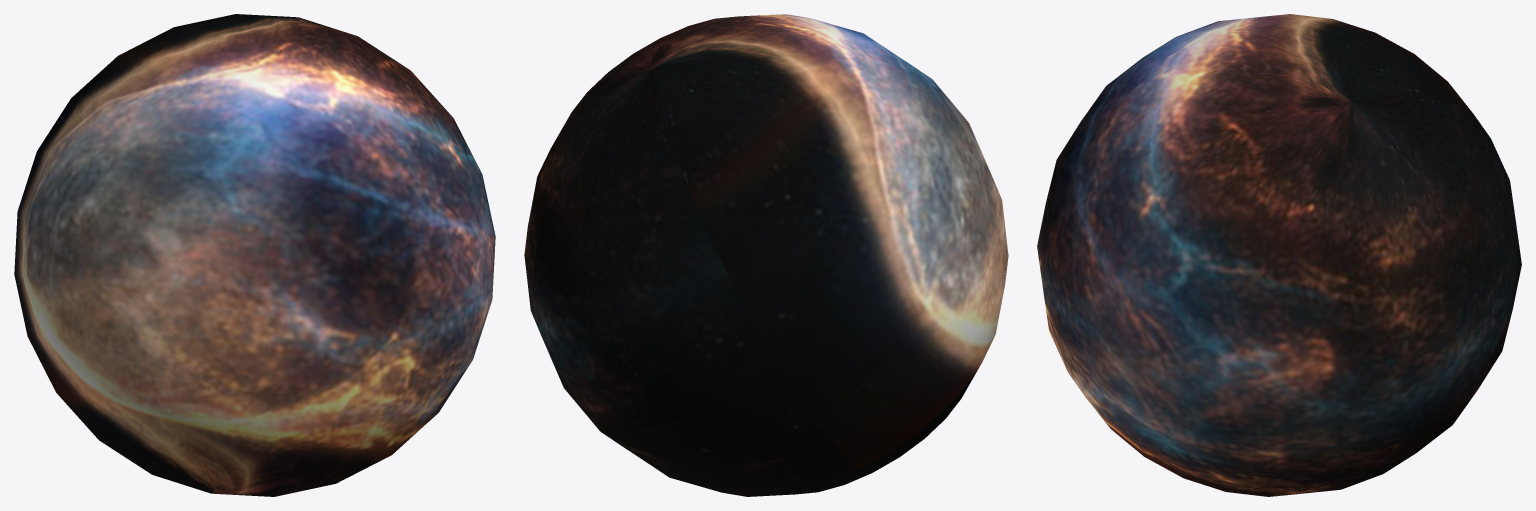
Rendered from mercur.fbx.
3 renders of one model, left to right at view 1: azimuth 30°, elevation 25°; view 2: azimuth 150°, elevation 25°; view 3: azimuth 270°, elevation 25°, orthographic.
Visible parts, largest first — view 1: Sphere; view 2: Sphere; view 3: Sphere.
Part boxes in pixels (<box>): Sphere: <box>14,14,495,496</box>; Sphere: <box>524,14,1008,496</box>; Sphere: <box>1037,14,1521,496</box>.
Size of the model in its own units: 116 by 118 by 118.
Materials: 1 (1 with a texture image).
